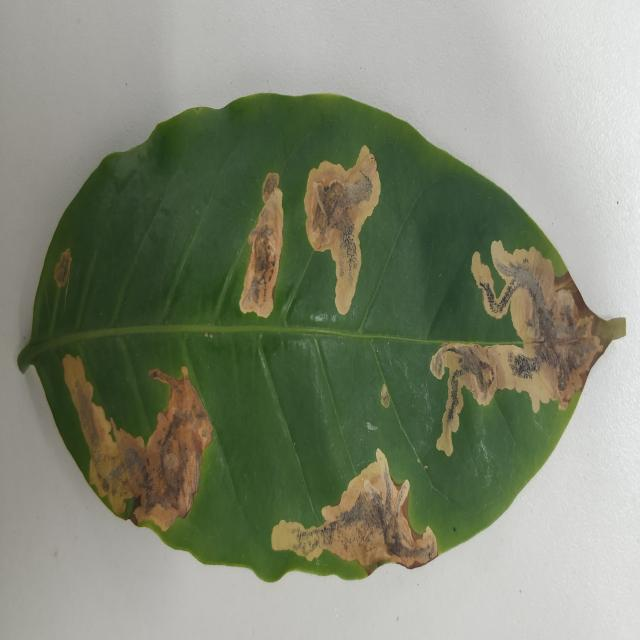Plaga-Minador: (16, 93, 628, 585)
